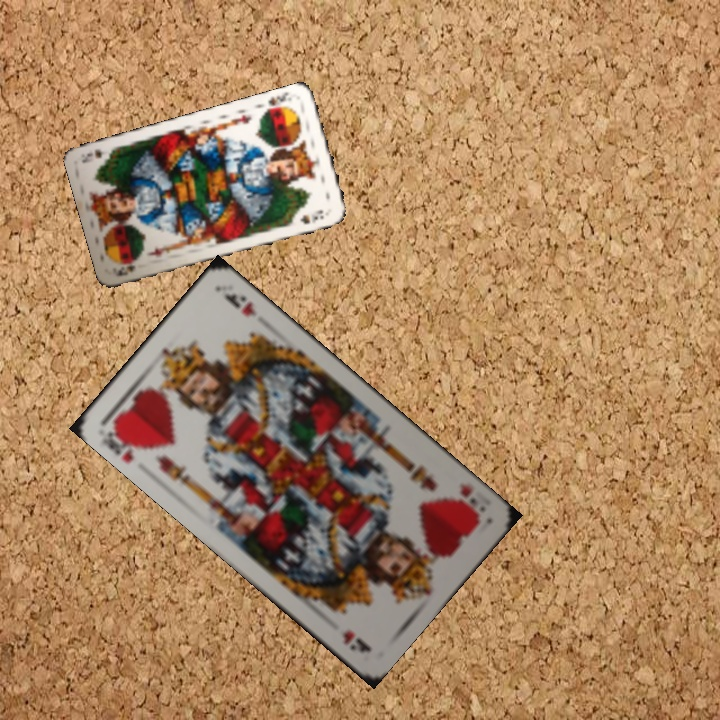HK: (97, 419, 148, 466), (446, 478, 489, 523)
SK: (261, 88, 294, 115), (111, 261, 138, 279)
